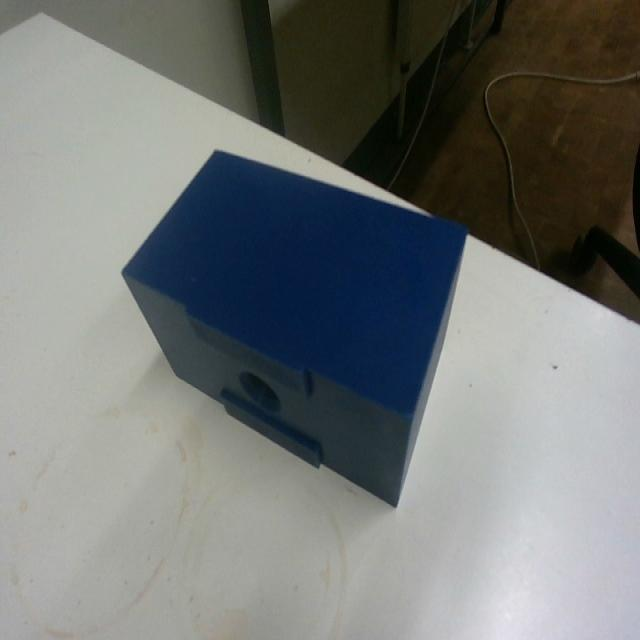Blue Cuboid: (119, 144, 469, 508)
